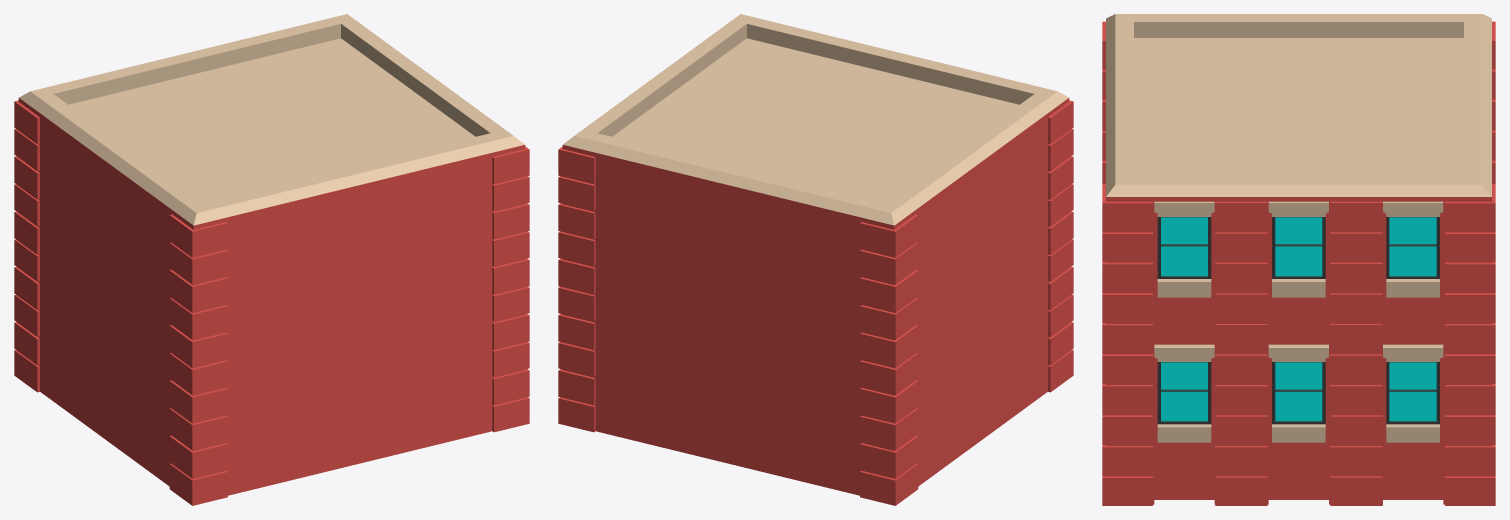
The model's file is building_09.fbx.
The picture shows the model from 3 angles, left to right: view 1: azimuth 30°, elevation 25°; view 2: azimuth 150°, elevation 25°; view 3: azimuth 270°, elevation 25°; orthographic projection. The views are drawn at different scales.
Parts seen in each view (by area): view 1: Cube.133; view 2: Cube.133; view 3: Cube.133.
Part boxes in pixels (x1=…): Cube.133: x1=14, y1=14, x2=529, y2=505; Cube.133: x1=558, y1=14, x2=1073, y2=505; Cube.133: x1=1102, y1=14, x2=1495, y2=505.
Size of the model in its own units: 1112 by 902 by 1018.
